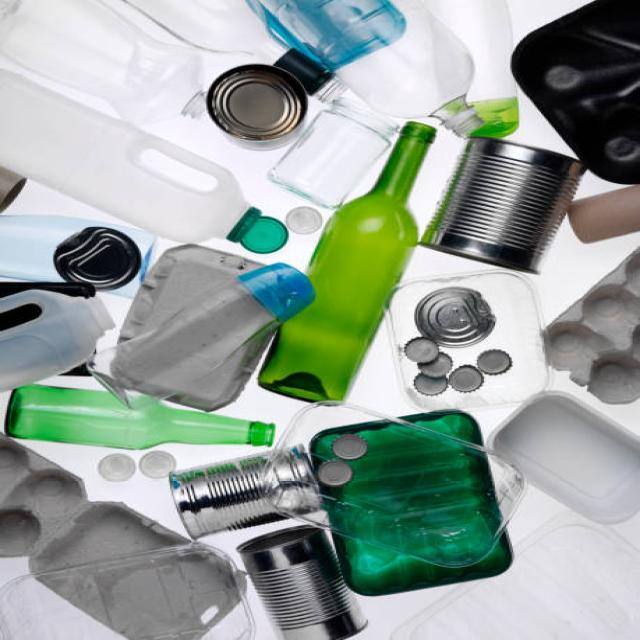glass: (8, 387, 286, 454)
metal: (419, 133, 572, 277), (399, 288, 517, 398), (241, 538, 370, 638), (206, 63, 322, 144), (323, 437, 371, 459)
plastic: (1, 1, 198, 162), (2, 545, 245, 640)
